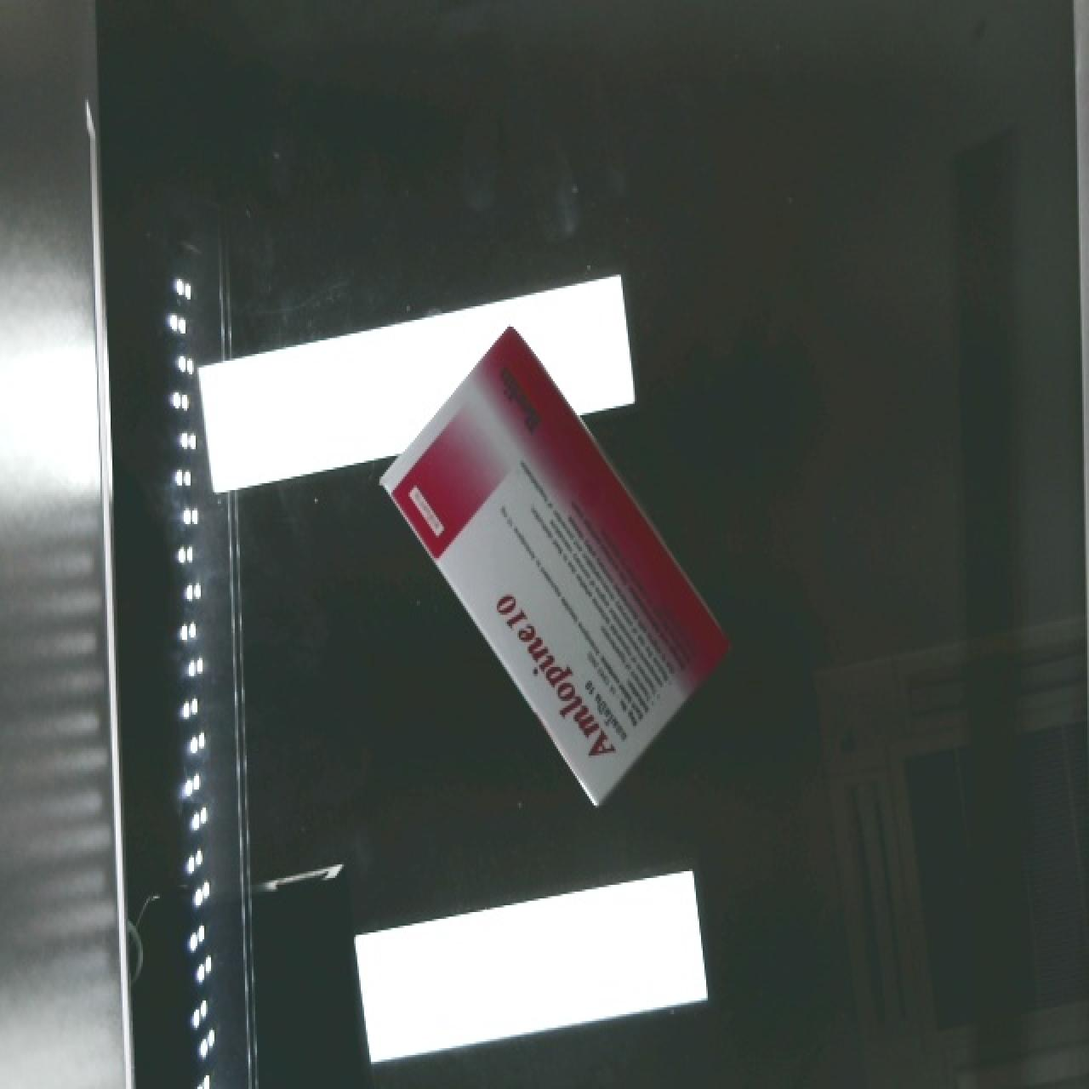medicine_label_obb: (470, 569, 647, 794)
